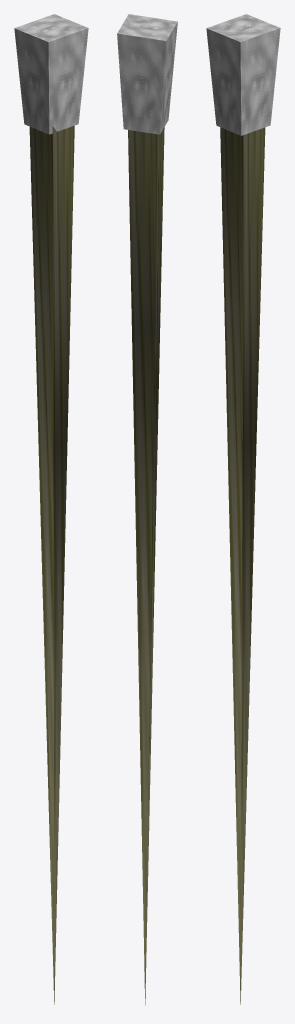
Rendered from torch01.obj.
3 renders of one model, left to right at view 1: azimuth 90°, elevation 25°; view 2: azimuth 210°, elevation 25°; view 3: azimuth 270°, elevation 25°, orthographic.
Parts seen in each view (by area): view 1: Box01, Box02; view 2: Box01, Box02; view 3: Box01, Box02.
Part boxes in pixels (box(x1,y1,x2,y2)): Box01: box(29, 125, 74, 1004); Box02: box(14, 14, 88, 134); Box01: box(128, 127, 164, 1005); Box02: box(117, 14, 177, 134); Box01: box(220, 127, 265, 1004); Box02: box(206, 14, 280, 135).
Size of the model in its own units: 6.28 by 102 by 6.98.
